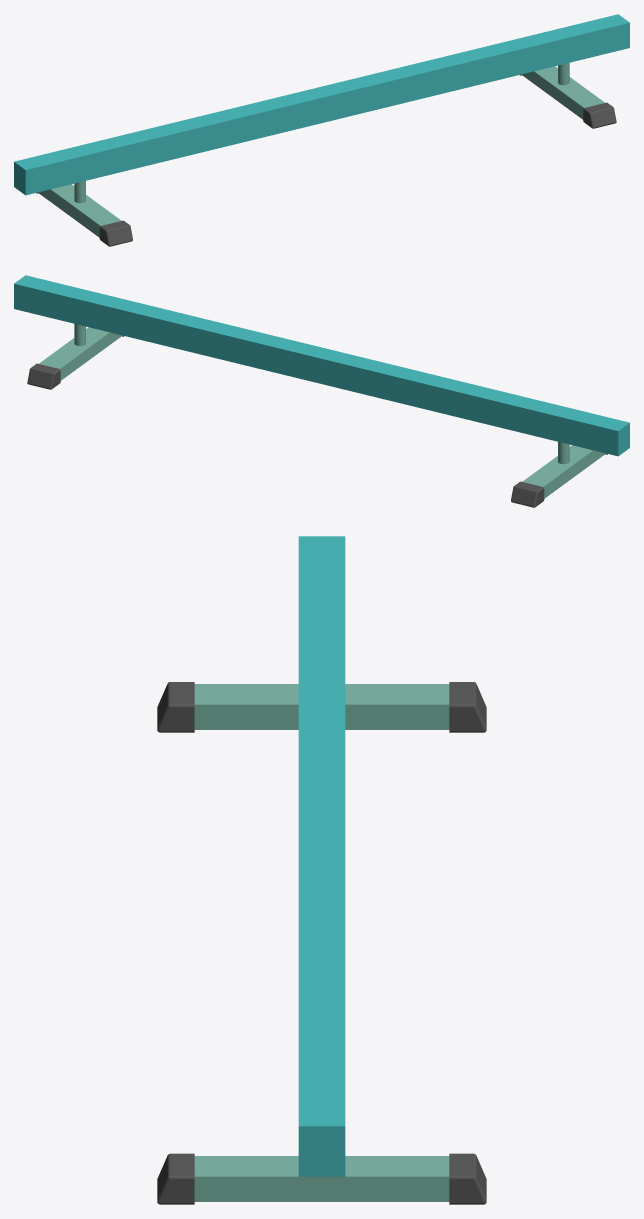
Rendered from 634_平均台.glb.
The picture shows the model from 3 angles, top to bottom: view 1: azimuth 30°, elevation 25°; view 2: azimuth 150°, elevation 25°; view 3: azimuth 270°, elevation 25°; orthographic projection. The views are drawn at different scales.
Visible parts, largest first — view 1: Body; view 2: Body; view 3: Body.
Boxes of the visible parts, x1,y1,x2,y2 form: Body: (14,14,629,246); Body: (14,275,629,507); Body: (157,536,486,1204).
Size of the model in its own units: 3 by 0.3 by 0.7085.
